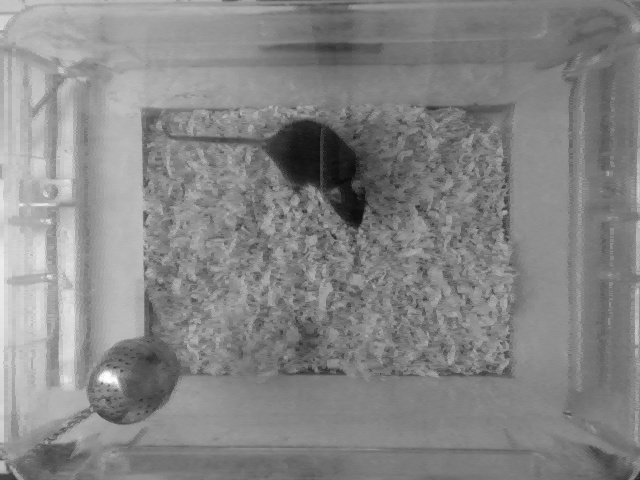mice: (148, 113, 374, 233)
